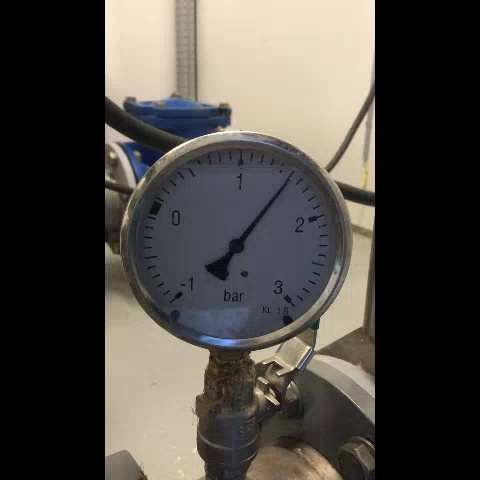Round_Meter: (130, 142, 345, 344)
